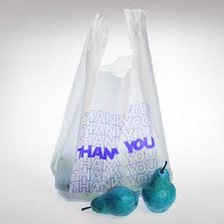plastic_bag: (48, 5, 175, 205)
